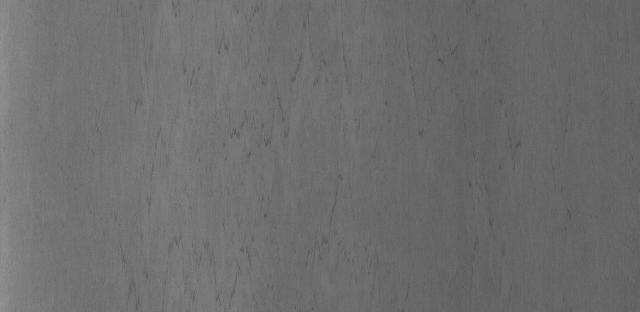silk_spot: (172, 35, 388, 261)
